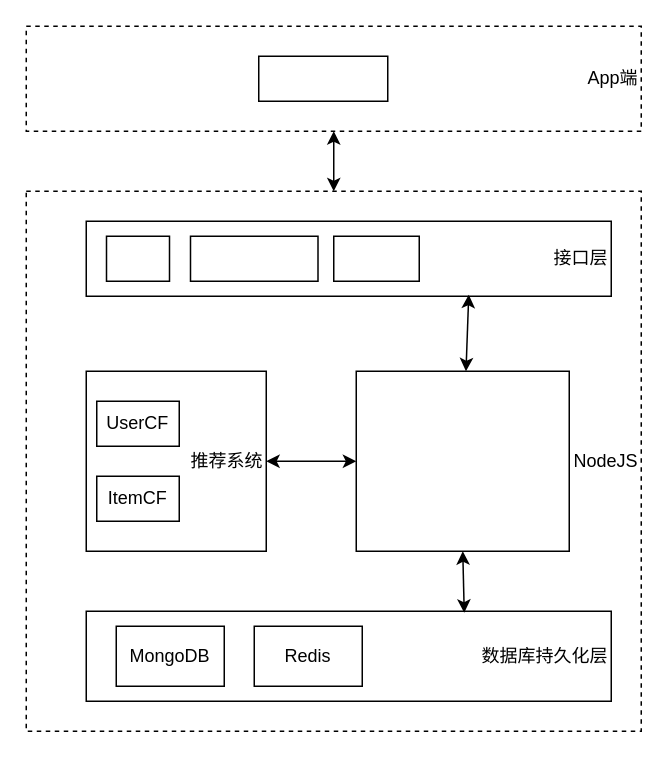
This 668x758 diagram has some shape labels left out. Each missing label, with the centre of its shape:
"app" belongs at pixel 322 78.
"http" belongs at pixel 137 258.
"Koa2" belongs at pixel 375 258.
"LBS云接口" belongs at pixel 253 258.
"后台逻辑层" belongs at pixel 462 460.
